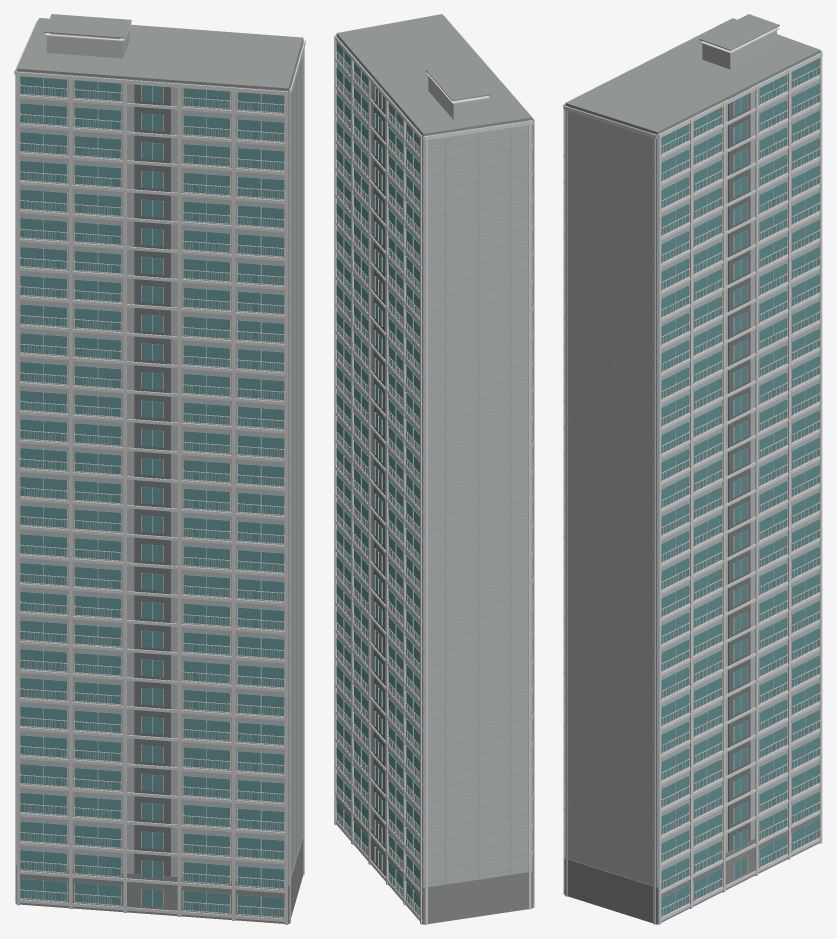
Rendered from bespoke-jamsil-ricenz-222.glb.
3 views of the same model, side by side, from view 1: azimuth 30°, elevation 25°; view 2: azimuth 150°, elevation 25°; view 3: azimuth 270°, elevation 25° (orthographic). The views are drawn at different scales.
Parts seen in each view (by area): view 1: Ricenz222_editable_Ricenz222_turquoise_balcony_glazing, Ricenz222_editable_Ricenz222_light_grey_solid_wall, Ricenz222_white_exact_chunk_1, Ricenz222_white_exact_chunk_0, Ricenz222_editable_Ricenz222_modest_grey_flat_roof_caps, Ricenz222_editable_Ricenz222_narrow_charcoal_service_strips, Ricenz222_editable_Ricenz222_muted_ground_wall; view 2: Ricenz222_editable_Ricenz222_light_grey_solid_wall, Ricenz222_editable_Ricenz222_turquoise_balcony_glazing, Ricenz222_white_exact_chunk_2, Ricenz222_editable_Ricenz222_modest_grey_flat_roof_caps, Ricenz222_white_exact_chunk_3, Ricenz222_white_exact_chunk_1, Ricenz222_white_exact_chunk_0, Ricenz222_editable_Ricenz222_narrow_charcoal_service_strips, Ricenz222_editable_Ricenz222_muted_ground_wall; view 3: Ricenz222_editable_Ricenz222_light_grey_solid_wall, Ricenz222_editable_Ricenz222_turquoise_balcony_glazing, Ricenz222_white_exact_chunk_2, Ricenz222_white_exact_chunk_3, Ricenz222_editable_Ricenz222_modest_grey_flat_roof_caps, Ricenz222_white_exact_chunk_1, Ricenz222_editable_Ricenz222_narrow_charcoal_service_strips, Ricenz222_editable_Ricenz222_muted_ground_wall.
Part boxes in pixels (left/top/right/bottom): Ricenz222_editable_Ricenz222_turquoise_balcony_glazing: left=20, top=76, right=284, bottom=917; Ricenz222_editable_Ricenz222_light_grey_solid_wall: left=16, top=29, right=303, bottom=884; Ricenz222_white_exact_chunk_1: left=16, top=40, right=305, bottom=924; Ricenz222_white_exact_chunk_0: left=14, top=20, right=231, bottom=917; Ricenz222_editable_Ricenz222_modest_grey_flat_roof_caps: left=16, top=14, right=303, bottom=874; Ricenz222_editable_Ricenz222_narrow_charcoal_service_strips: left=134, top=79, right=170, bottom=876; Ricenz222_editable_Ricenz222_muted_ground_wall: left=16, top=834, right=303, bottom=924; Ricenz222_editable_Ricenz222_light_grey_solid_wall: left=336, top=36, right=532, bottom=887; Ricenz222_editable_Ricenz222_turquoise_balcony_glazing: left=336, top=42, right=419, bottom=914; Ricenz222_white_exact_chunk_2: left=335, top=41, right=422, bottom=921; Ricenz222_editable_Ricenz222_modest_grey_flat_roof_caps: left=336, top=14, right=532, bottom=884; Ricenz222_white_exact_chunk_3: left=334, top=35, right=489, bottom=924; Ricenz222_white_exact_chunk_1: left=335, top=16, right=534, bottom=907; Ricenz222_white_exact_chunk_0: left=424, top=120, right=533, bottom=924; Ricenz222_editable_Ricenz222_narrow_charcoal_service_strips: left=373, top=79, right=385, bottom=843; Ricenz222_editable_Ricenz222_muted_ground_wall: left=336, top=792, right=532, bottom=924; Ricenz222_editable_Ricenz222_light_grey_solid_wall: left=565, top=30, right=820, bottom=887; Ricenz222_editable_Ricenz222_turquoise_balcony_glazing: left=661, top=58, right=819, bottom=916; Ricenz222_white_exact_chunk_2: left=661, top=74, right=820, bottom=905; Ricenz222_white_exact_chunk_3: left=658, top=27, right=822, bottom=924; Ricenz222_editable_Ricenz222_modest_grey_flat_roof_caps: left=565, top=14, right=820, bottom=883; Ricenz222_white_exact_chunk_1: left=563, top=104, right=690, bottom=924; Ricenz222_editable_Ricenz222_narrow_charcoal_service_strips: left=728, top=88, right=750, bottom=851; Ricenz222_editable_Ricenz222_muted_ground_wall: left=564, top=810, right=819, bottom=924.
Size of the model in its own units: 26.95 by 88.33 by 25.51.
